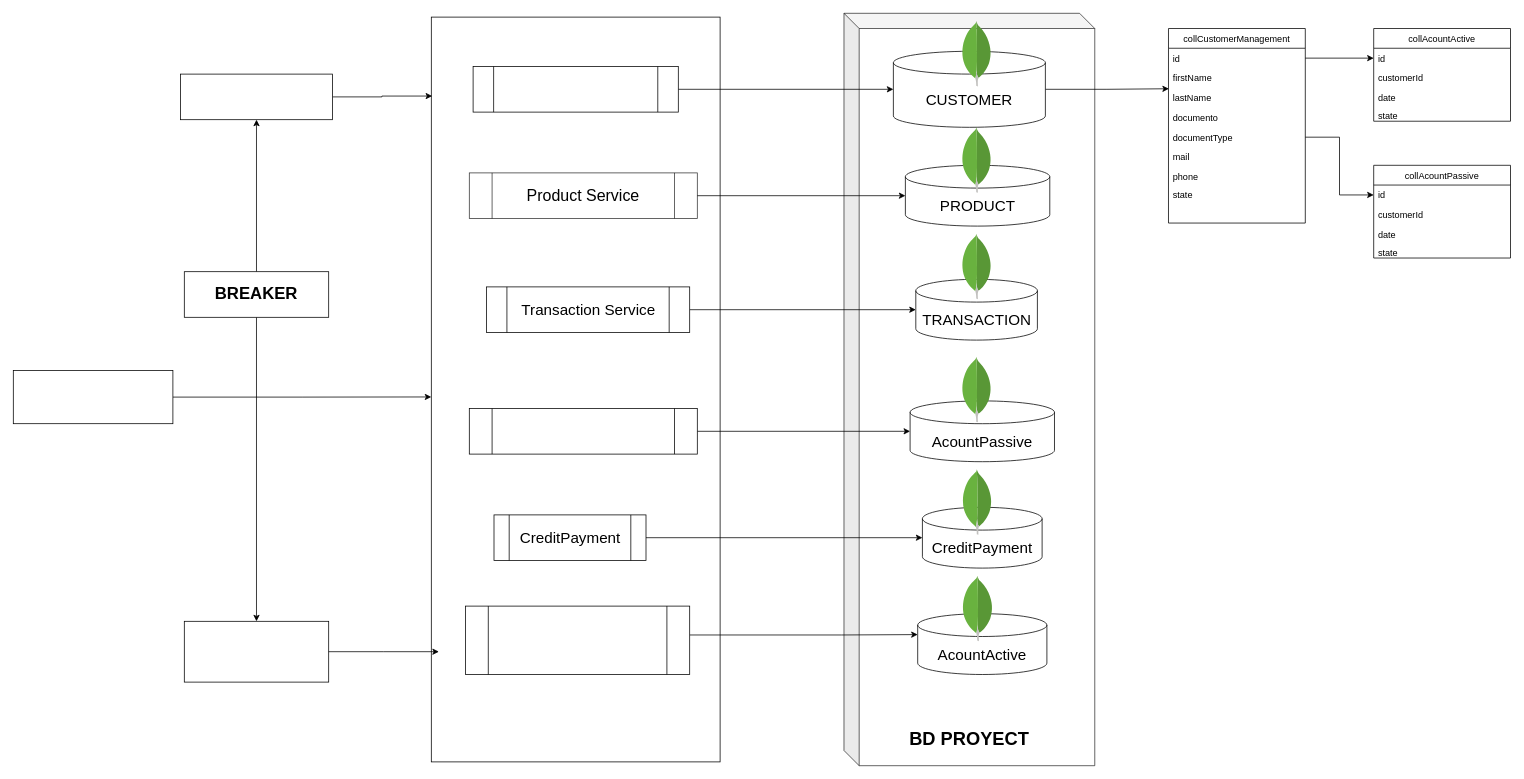
Image size: 1524x779. Some labels were removed from this diagram. Each missing label, with the centre of its shape:
"AcountActiveManagement" belongs at point (577, 639).
"AcountPassiveManagement" belongs at point (583, 431).
"API GATEWAY" belongs at point (93, 397).
"CONFIG SERVICE" belongs at point (256, 651).
"Customer Service" belongs at point (575, 89).
"REGISTRY SERVICE" belongs at point (256, 96).
